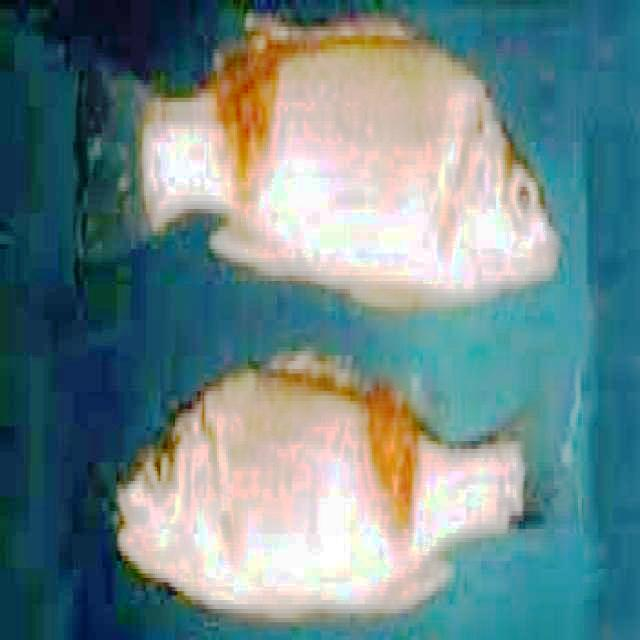Columnaris Disease: (76, 18, 556, 306), (119, 353, 566, 618)
